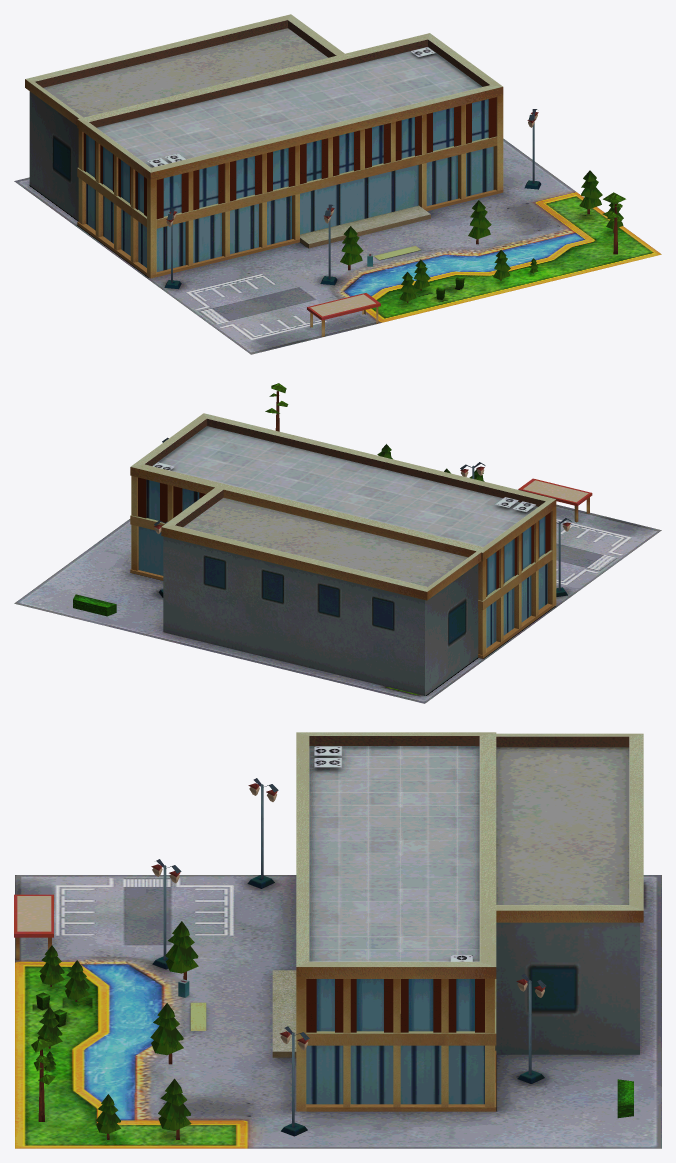
The model's file is zhanlanting.FBX.
The picture shows the model from 3 angles, top to bottom: view 1: azimuth 30°, elevation 25°; view 2: azimuth 150°, elevation 25°; view 3: azimuth 270°, elevation 25°; orthographic projection. The views are drawn at different scales.
Parts seen in each view (by area): view 1: zhanlanting; view 2: zhanlanting; view 3: zhanlanting.
Part boxes in pixels (x1,y1,x2,y2): zhanlanting: [14, 14, 661, 354]; zhanlanting: [14, 383, 661, 703]; zhanlanting: [14, 732, 661, 1148].
Size of the model in its own units: 1342 by 334 by 1344.
1 material, 1 textured.
